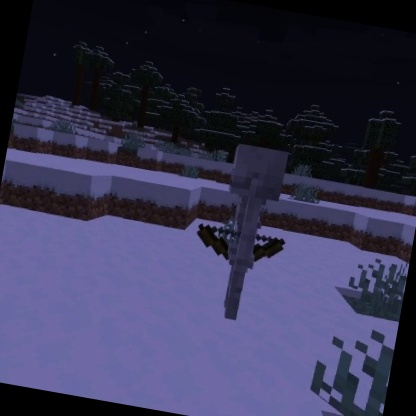skeleton: (180, 133, 306, 332)
